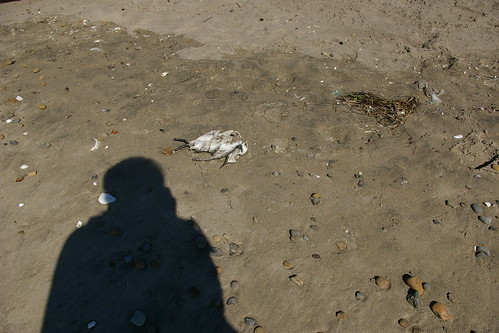beach: (4, 9, 499, 333)
